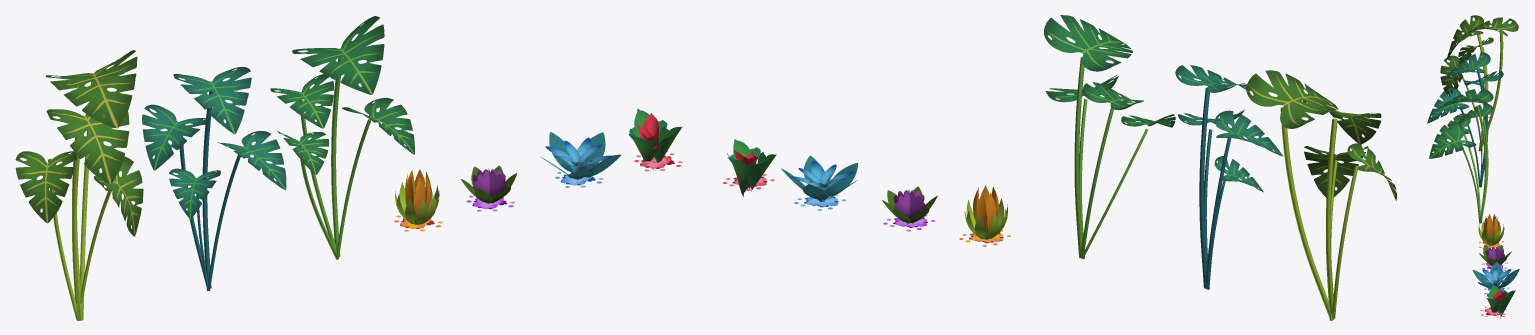
Rendered from All_flowers_and_plant.fbx.
The picture shows the model from 3 angles, left to right: view 1: azimuth 30°, elevation 25°; view 2: azimuth 150°, elevation 25°; view 3: azimuth 270°, elevation 25°; orthographic projection. The views are drawn at different scales.
Visible parts, largest first — view 1: Warm_green_monstera, Green_monstera, Cold_green_monstera, Blue_flower, Red_flower, Yellow_flower, Purple_flower; view 2: Warm_green_monstera, Green_monstera, Cold_green_monstera, Blue_flower, Yellow_flower, Red_flower, Purple_flower; view 3: Green_monstera, Warm_green_monstera, Cold_green_monstera, Blue_flower, Yellow_flower, Red_flower, Purple_flower.
Boxes of the visible parts, box(x1,y1,x2,y2) form: Warm_green_monstera: box(15, 50, 143, 320); Green_monstera: box(270, 16, 414, 259); Cold_green_monstera: box(142, 66, 286, 290); Blue_flower: box(541, 132, 621, 187); Red_flower: box(628, 109, 682, 171); Yellow_flower: box(394, 169, 442, 231); Purple_flower: box(460, 165, 517, 211); Warm_green_monstera: box(1246, 70, 1396, 320); Green_monstera: box(1044, 15, 1175, 259); Cold_green_monstera: box(1175, 65, 1283, 289); Blue_flower: box(781, 155, 857, 210); Yellow_flower: box(959, 185, 1010, 246); Red_flower: box(723, 139, 776, 196); Purple_flower: box(882, 186, 937, 231); Green_monstera: box(1429, 89, 1493, 223); Warm_green_monstera: box(1440, 15, 1518, 151); Cold_green_monstera: box(1427, 52, 1503, 187); Blue_flower: box(1472, 262, 1519, 294); Yellow_flower: box(1478, 214, 1504, 248); Red_flower: box(1480, 285, 1515, 318); Purple_flower: box(1479, 245, 1511, 270).
Size of the model in its own units: 13.21 by 4.76 by 2.8.
